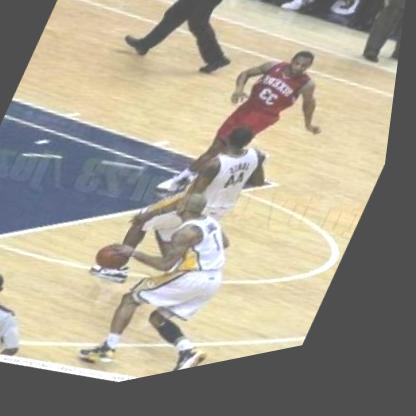basketball: (92, 234, 148, 290)
